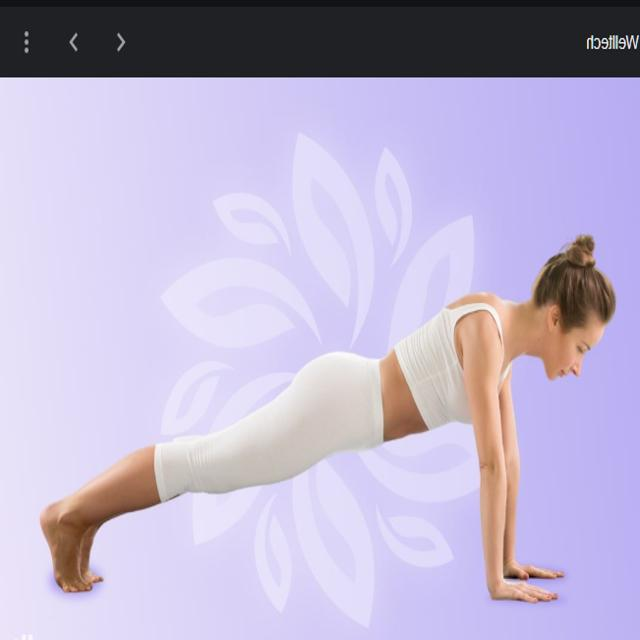Plank_Pose: (29, 232, 619, 616)
